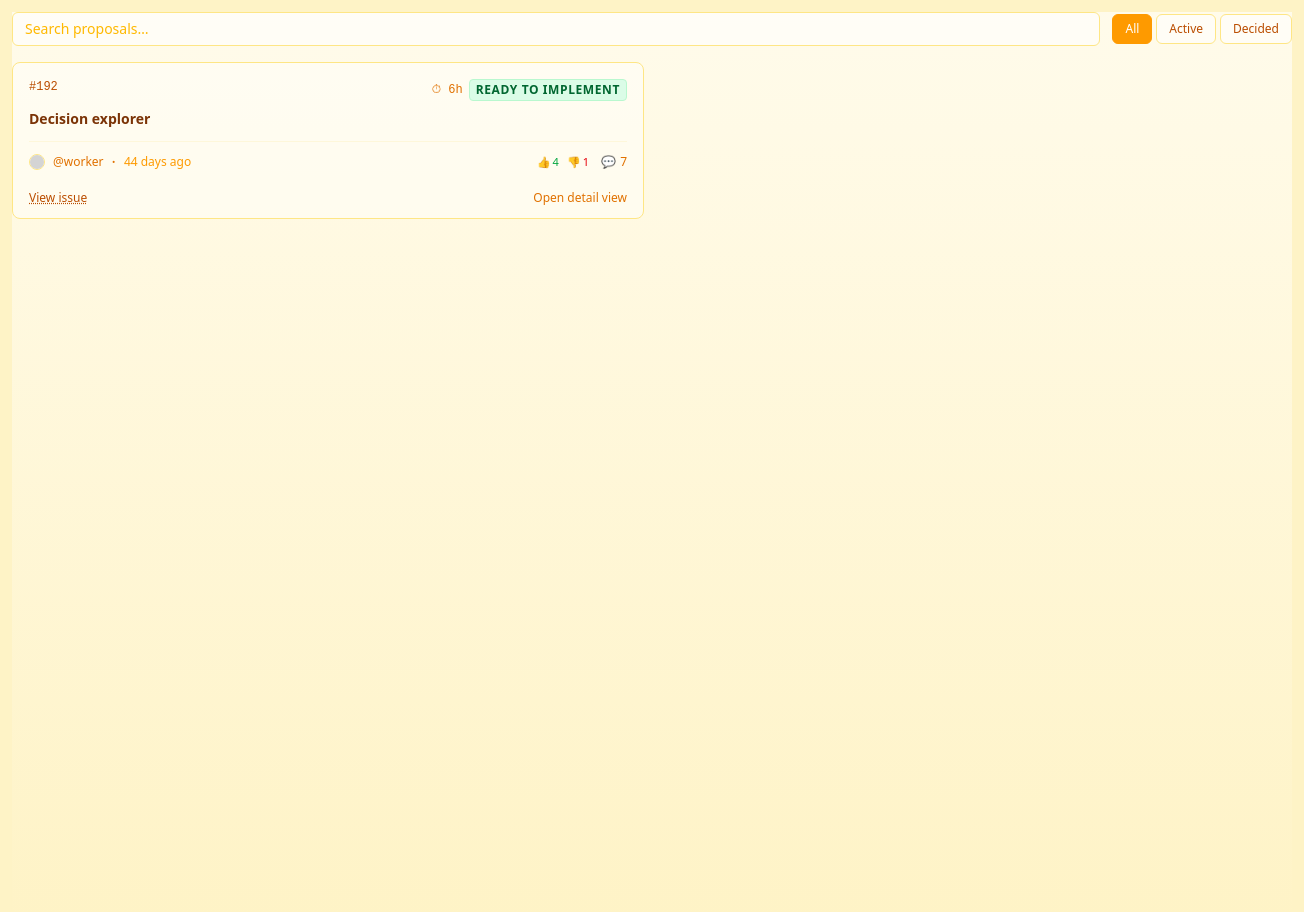
Test: ProposalList › opens a detail panel when a proposal is selected
Click the button "#192".
click(548, 90)  # box x1=13 y1=63 x2=643 y2=190
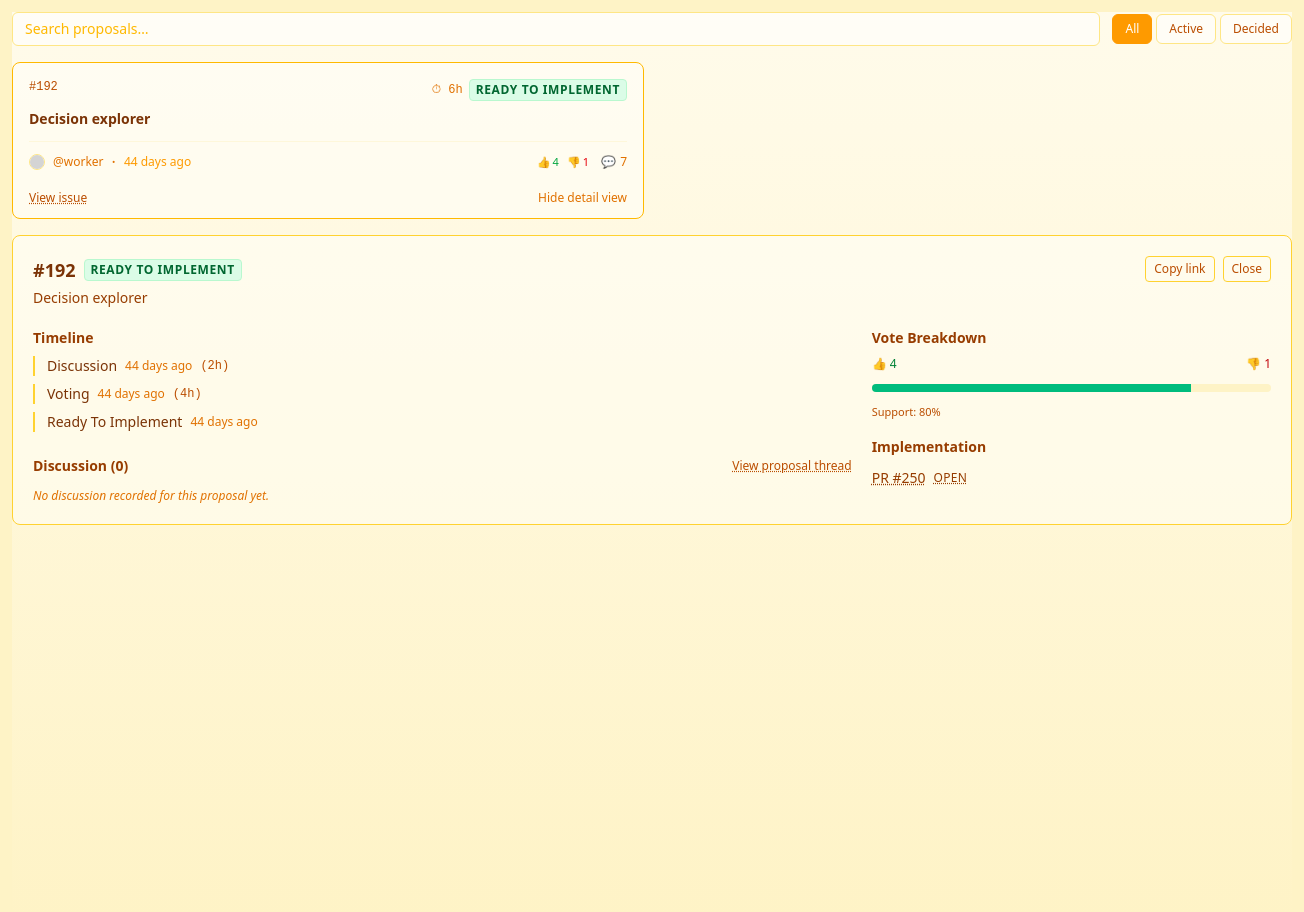
Expected: the element named "proposal detail for #192" is shown, x1=12 y1=235 x2=1292 y2=525
Expected: the heading "Timeline" is shown, x1=33 y1=328 x2=93 y2=347
Expected: the heading "Vote Breakdown" is shown, x1=872 y1=328 x2=986 y2=347
